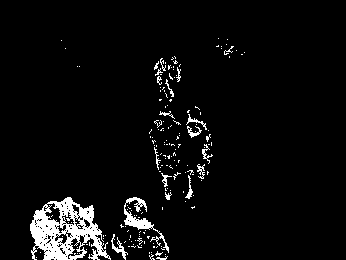person: (109, 196, 167, 260), (181, 103, 215, 202), (148, 104, 182, 200)
